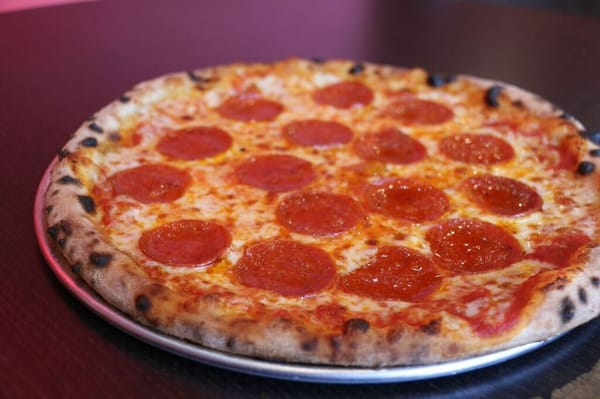sandwich: (47, 57, 599, 372)
